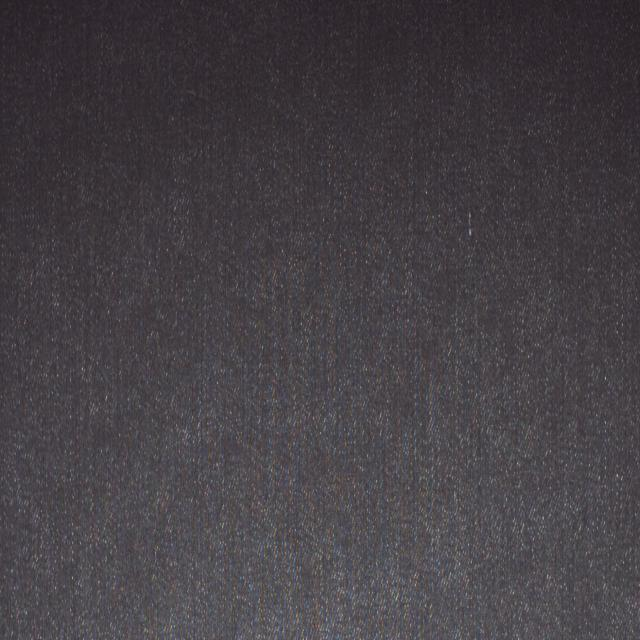Knot: (468, 211, 473, 238)
